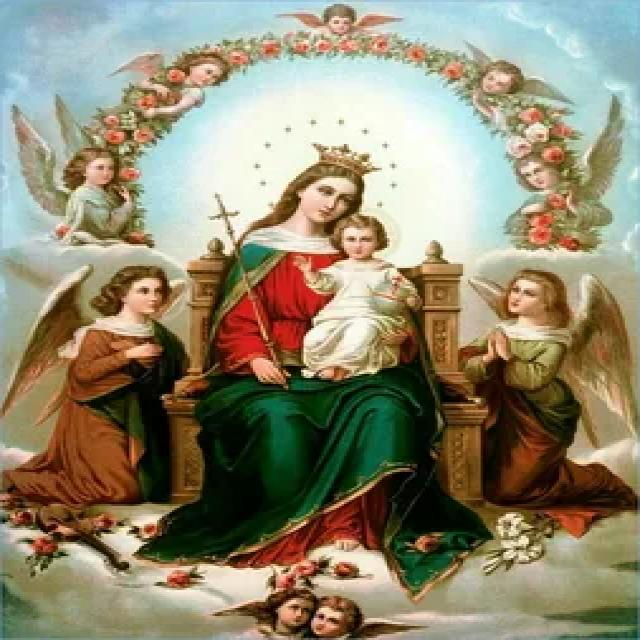mother of god: (188, 149, 457, 560)
